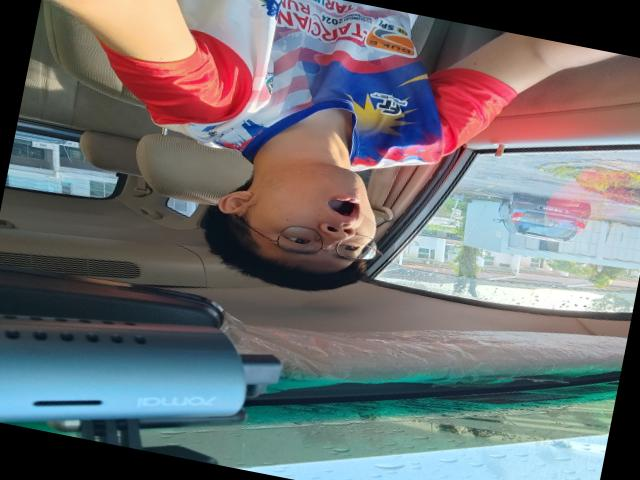eye_open: (284, 232, 314, 248), (338, 241, 364, 257)
face: (248, 152, 388, 279)
mouth_open: (321, 189, 365, 227)
